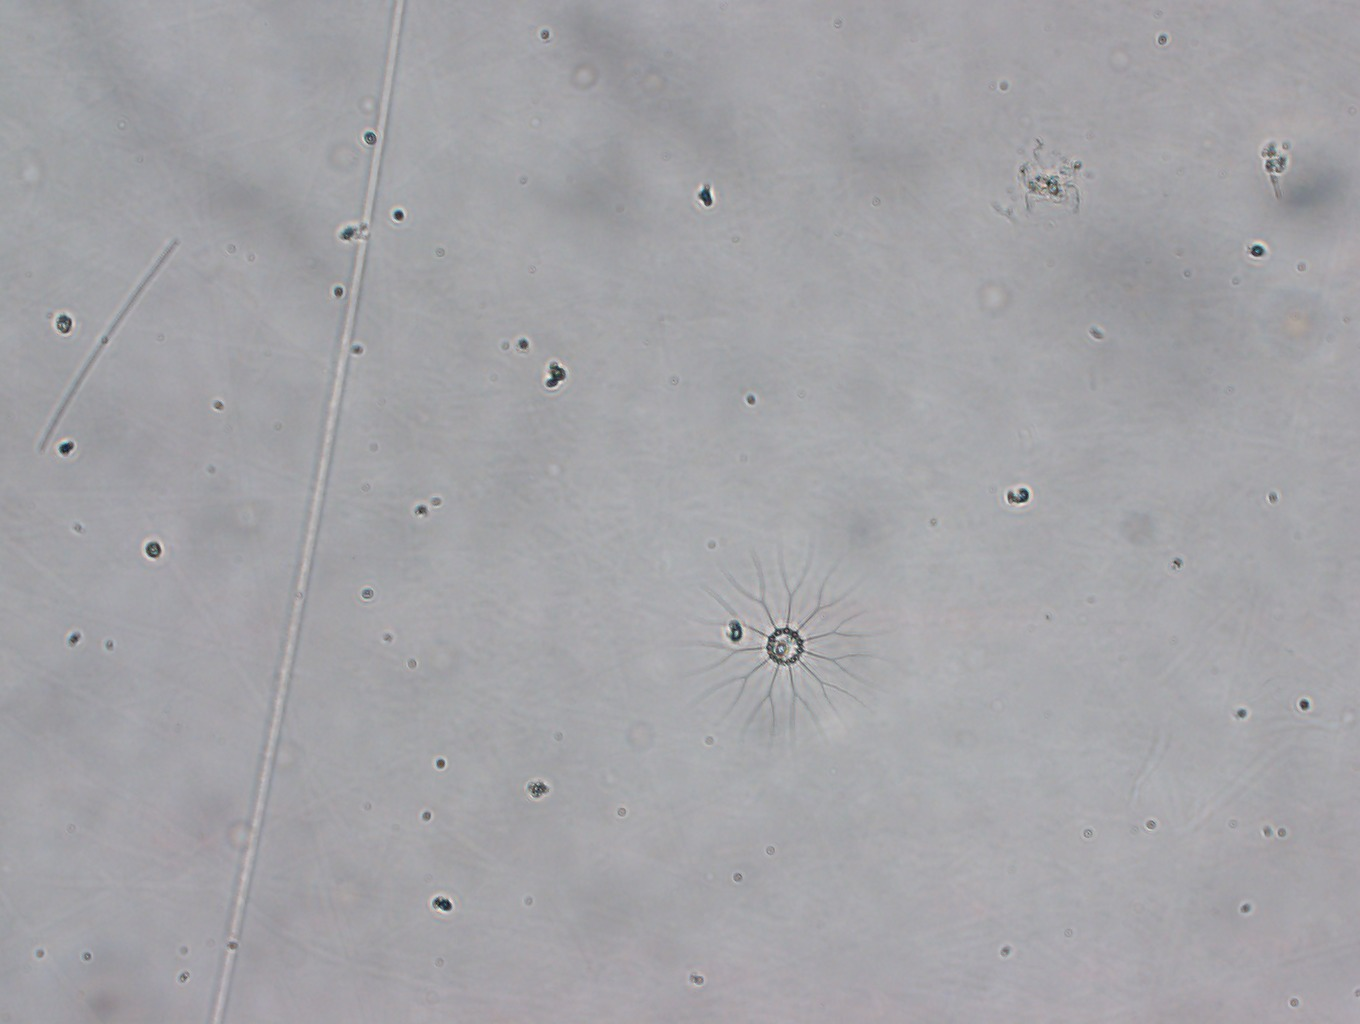bacteriastrum: (664, 536, 906, 753)
